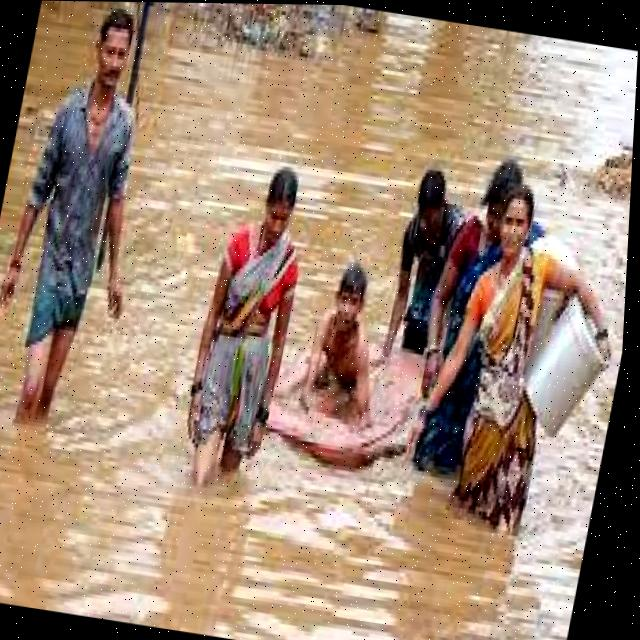civilian: (0, 0, 194, 455), (158, 148, 332, 517), (432, 179, 591, 541), (396, 136, 548, 502), (379, 166, 474, 364), (299, 248, 398, 419)
